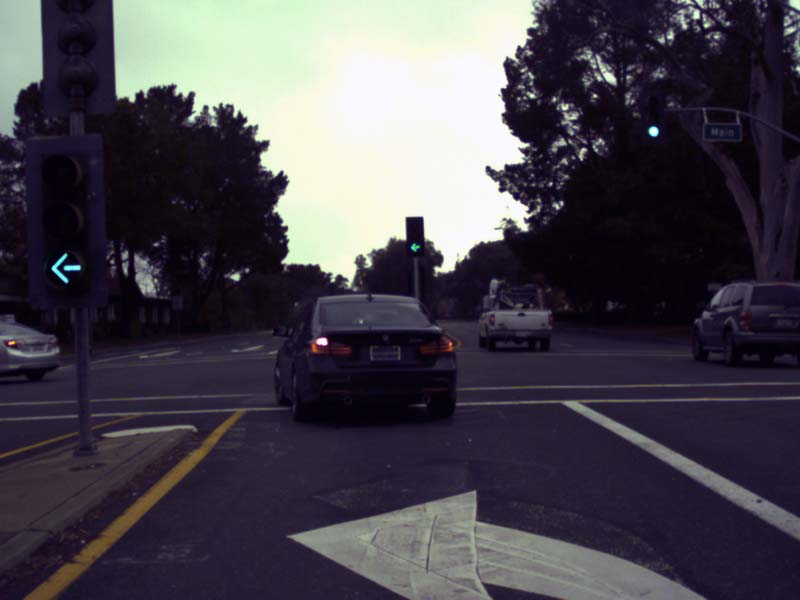Green: (28, 137, 104, 302), (639, 92, 665, 140), (406, 217, 424, 255)
